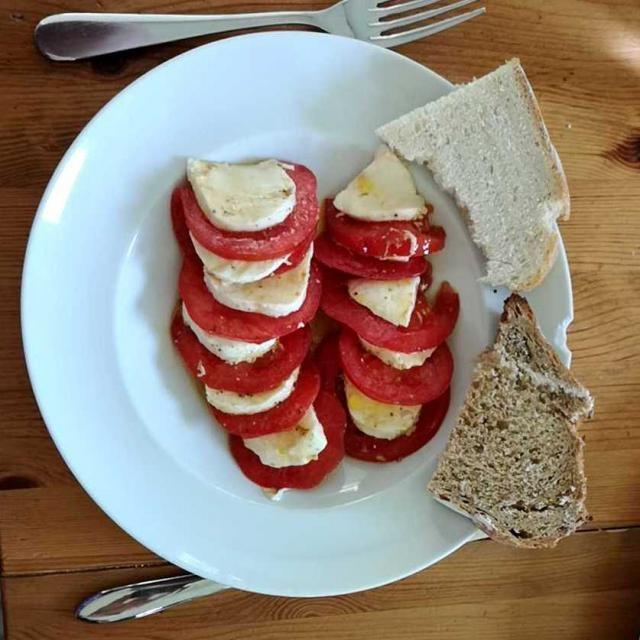bread: (387, 67, 561, 286), (436, 304, 592, 542)
tomatoes: (180, 142, 462, 505)
